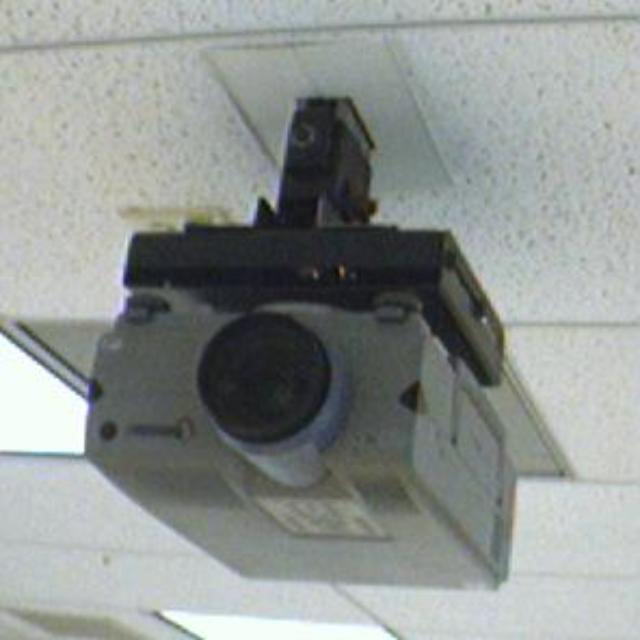Projector: (81, 295, 526, 593)
